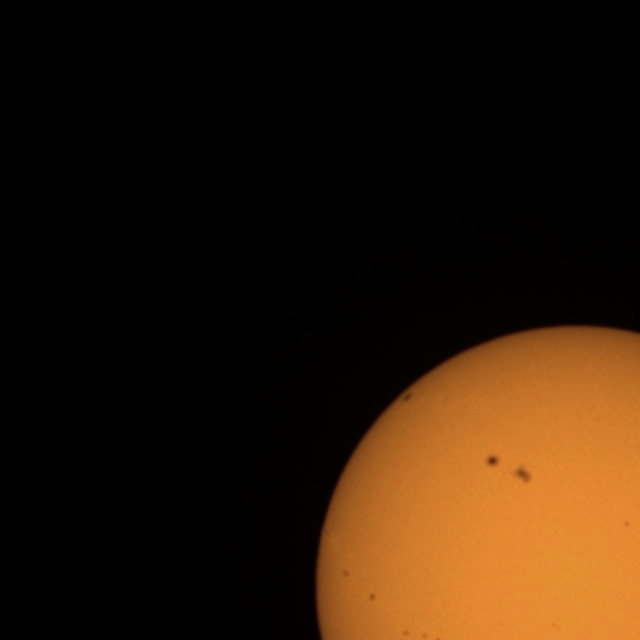sunspot: (483, 454, 532, 486), (511, 463, 534, 486), (400, 628, 430, 640), (484, 454, 501, 470), (414, 631, 442, 640), (400, 628, 414, 639), (340, 568, 351, 580), (550, 621, 561, 631), (368, 592, 377, 602), (622, 520, 632, 528)
